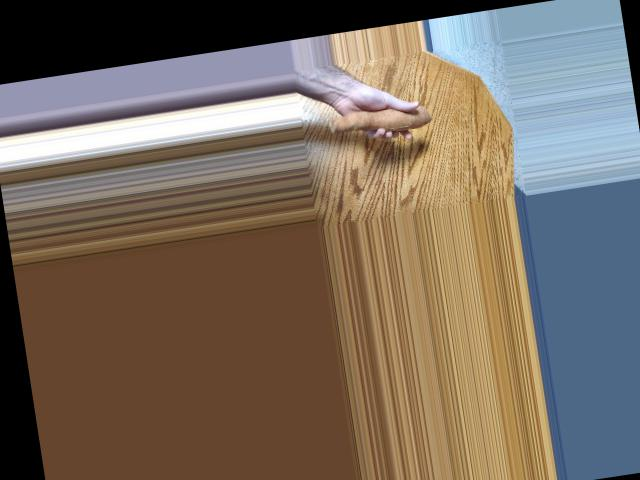sweet_potato: (322, 87, 441, 144)
